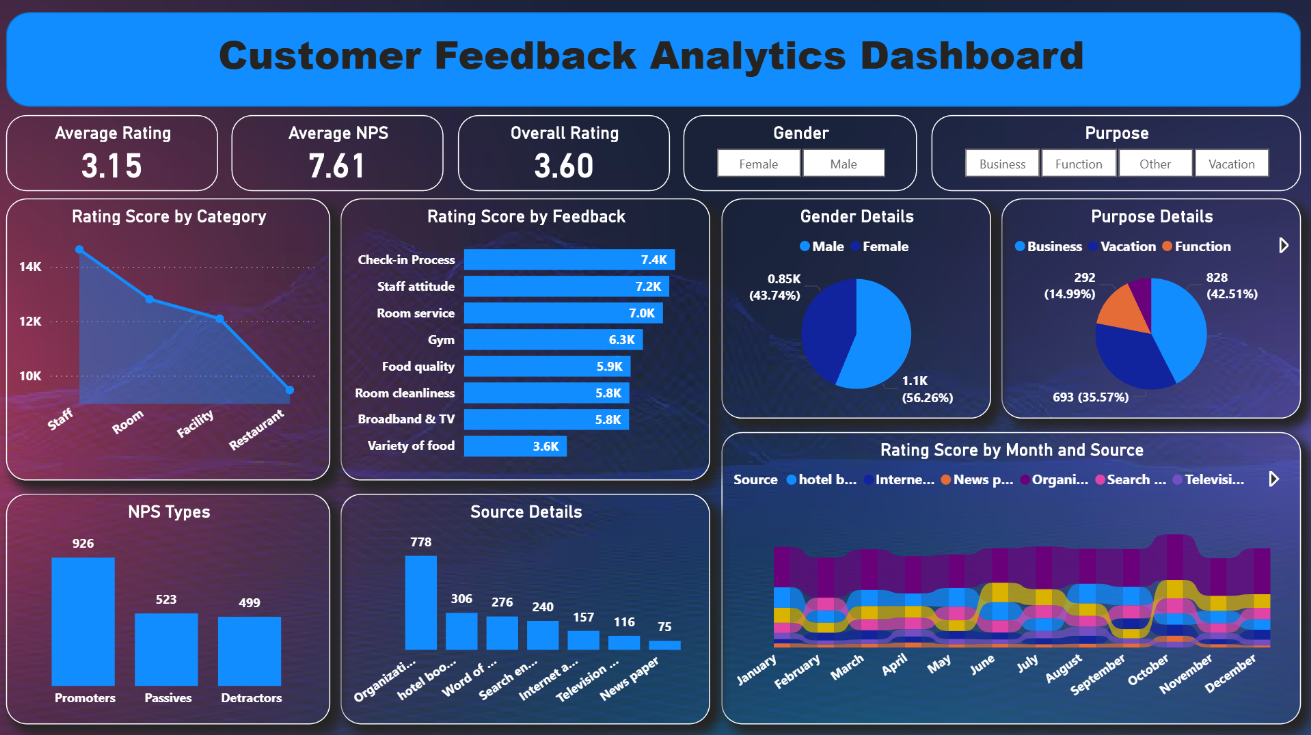

What the dashboard file says about the page in this screenshot:
{"tool":"powerbi","page":{"name":"Dashboard","canvas":[1280,720],"ordinal":0},"visuals":[{"type":"shape","box":[10.6,13.6,1258.3,92.4],"z":0},{"type":"slicer","title":"Purpose","fields":{"Values":["General.Purpose"]},"box":[910,113.6,358.9,74.2],"z":1000},{"type":"slicer","title":"Gender","fields":{"Values":["General.Gender"]},"box":[669.3,113.6,227.1,74.2],"z":2000},{"type":"pieChart","title":"Purpose Details","fields":{"Category":["General.Purpose"],"Y":["CountNonNull(General.Purpose)"]},"box":[978.2,195.3,290.7,213.5],"z":3000},{"type":"pieChart","title":"Gender Details","fields":{"Category":["General.Gender"],"Y":["CountNonNull(General.Gender)"]},"box":[705.6,195.3,262,213.5],"z":4000},{"type":"ribbonChart","title":"Rating Score by Month and Source","fields":{"Category":["General.Checkout Date.Variation.Date Hierarchy.Month"],"Series":["General.Source"],"Y":["Sum(Feedback.Rating Score)"]},"box":[705.6,422.5,563.3,283.2],"z":5000},{"type":"barChart","title":"Rating Score by Feedback","fields":{"Y":["Sum(Feedback.Rating Score)"],"Category":["Feedback.Feedback"]},"box":[336.2,195.3,358.9,274.1],"z":6000},{"type":"columnChart","title":"Source Details","fields":{"Category":["General.Source"],"Y":["CountNonNull(General.Source)"]},"box":[336.2,481.5,358.9,224.1],"z":7000},{"type":"columnChart","title":"NPS Types","fields":{"Category":["General.NPS"],"Y":["CountNonNull(General.NPS)"]},"box":[10.6,481.5,315,224.1],"z":8000},{"type":"areaChart","title":"Rating Score by Category","fields":{"Category":["Feedback.Category"],"Y":["Sum(Feedback.Rating Score)"]},"box":[10.6,195.3,315,274.1],"z":9000},{"type":"card","title":"Average Rating","fields":{"Values":["Avg(Feedback.Rating Score)"]},"box":[10.6,113.6,205.9,74.2],"z":10000},{"type":"card","title":"Average NPS","fields":{"Values":["Avg(General.NPS Rating)"]},"box":[230.2,113.6,205.9,74.2],"z":11000},{"type":"card","title":"Overall Rating","fields":{"Values":["Avg(General.Overall Experience)"]},"box":[449.7,113.6,205.9,74.2],"z":12000},{"type":"textbox","box":[21.2,22.7,1234.1,74.2],"z":13000}]}

Visuals, with their boxes in screenshot pixels (x1, y1, x2, y2), scaled from the page's 1280x720 canvas onto the 1311x735 screenshot:
shape: <box>11,14,1300,108</box>
"Purpose" slicer: <box>932,116,1300,192</box>
"Gender" slicer: <box>686,116,918,192</box>
"Purpose Details" pieChart: <box>1002,199,1300,417</box>
"Gender Details" pieChart: <box>723,199,991,417</box>
"Rating Score by Month and Source" ribbonChart: <box>723,431,1300,720</box>
"Rating Score by Feedback" barChart: <box>344,199,712,479</box>
"Source Details" columnChart: <box>344,492,712,720</box>
"NPS Types" columnChart: <box>11,492,333,720</box>
"Rating Score by Category" areaChart: <box>11,199,333,479</box>
"Average Rating" card: <box>11,116,222,192</box>
"Average NPS" card: <box>236,116,447,192</box>
"Overall Rating" card: <box>461,116,671,192</box>
textbox: <box>22,23,1286,99</box>
